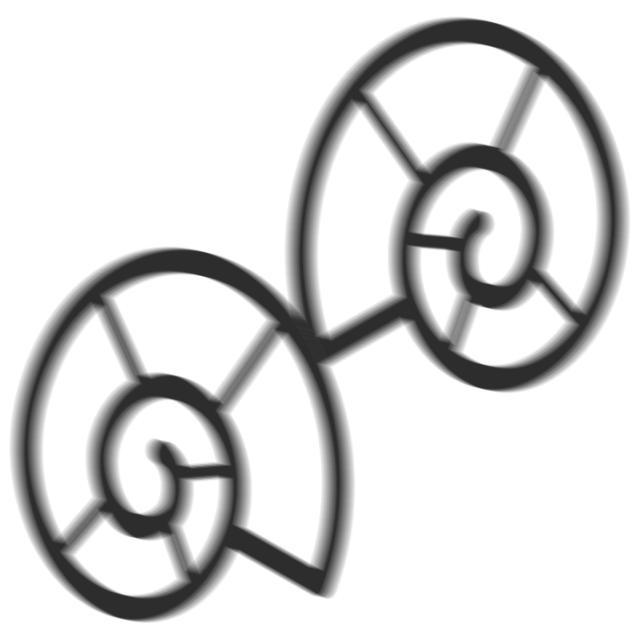fossil: (5, 237, 366, 633), (283, 10, 635, 407)
